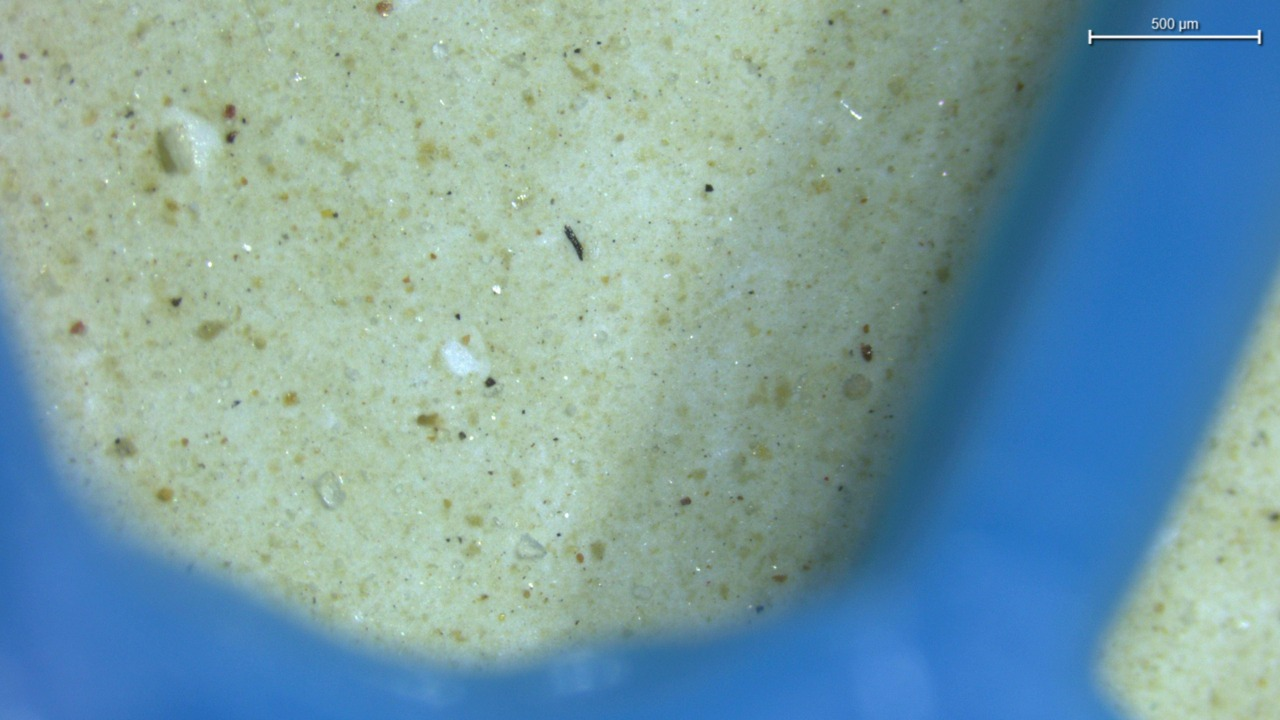microplastic_fragment: (313, 473, 346, 509), (515, 533, 547, 559)
